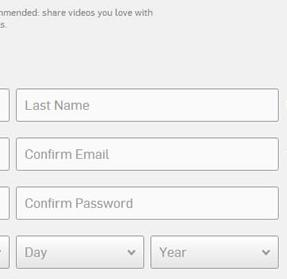field: (15, 186, 280, 221), (15, 136, 280, 171), (15, 87, 280, 122), (15, 235, 146, 269), (150, 235, 279, 269)
